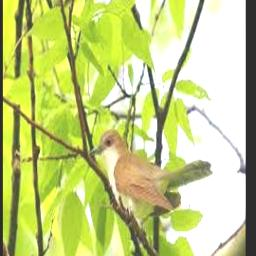Cuckoo: (90, 129, 213, 216)
